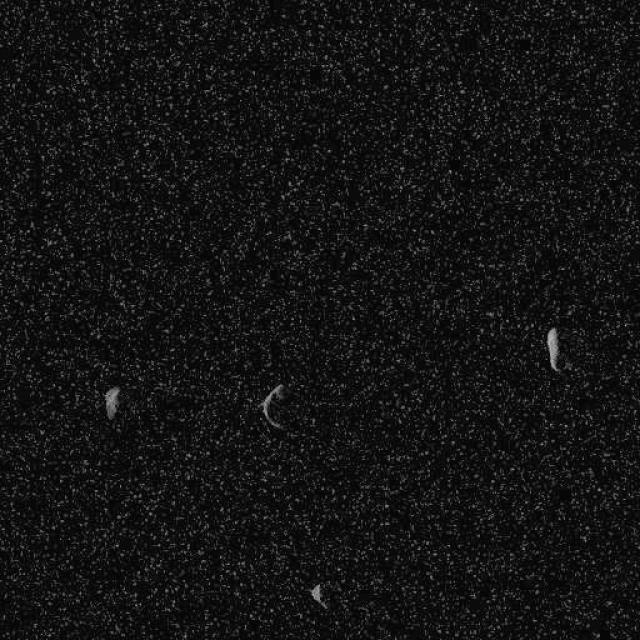D2: (260, 382, 292, 432), (545, 325, 560, 373), (102, 384, 121, 420), (308, 581, 328, 609)
